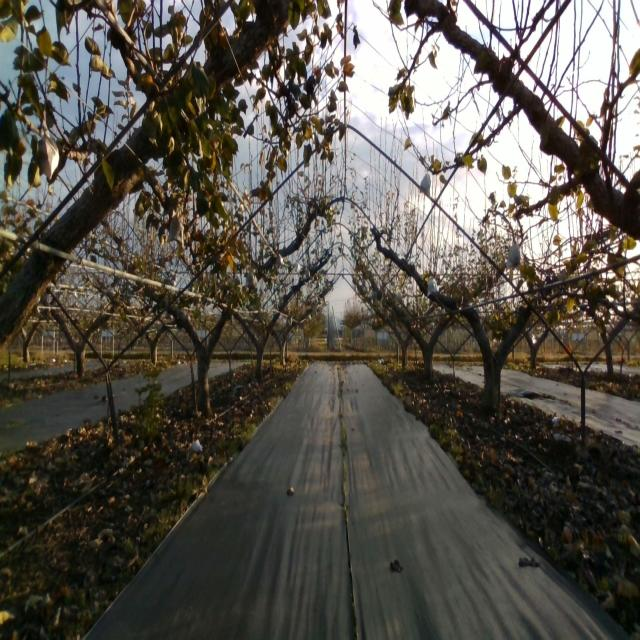pearbags: (36, 124, 59, 184), (167, 211, 185, 251), (505, 241, 521, 268), (419, 168, 432, 200), (426, 274, 439, 297), (245, 271, 255, 289)
